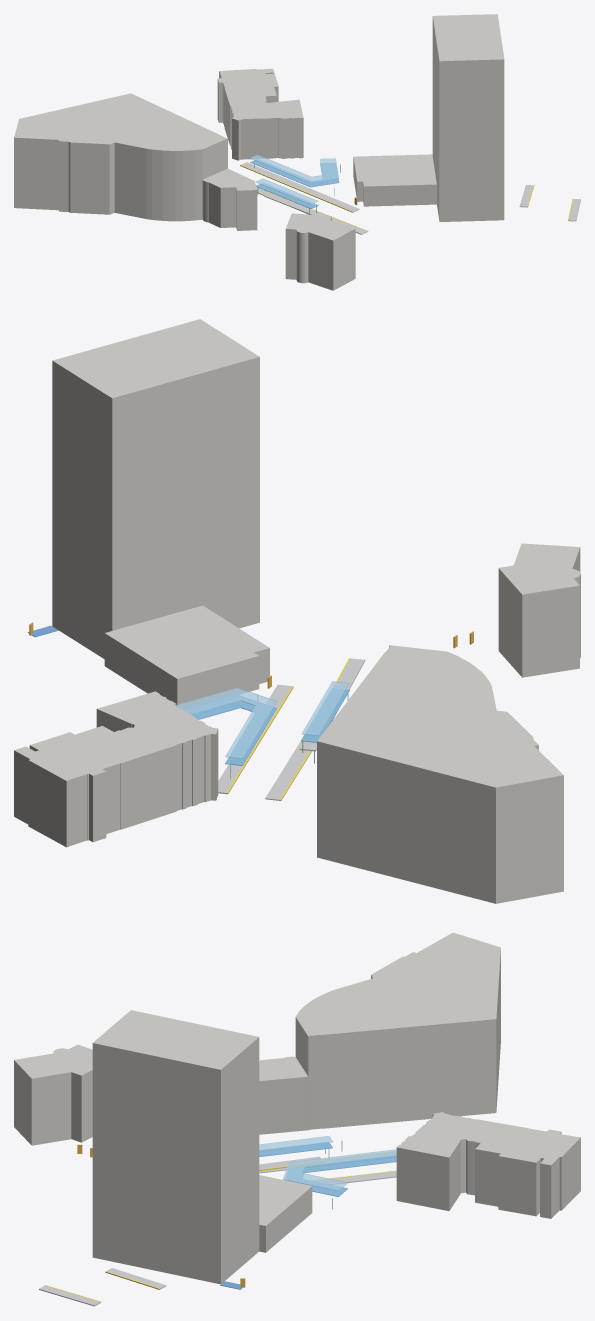
File: 8571393-bern-eigerplatz.glb
The picture shows the model from 3 angles, top to bottom: view 1: azimuth 30°, elevation 25°; view 2: azimuth 150°, elevation 25°; view 3: azimuth 270°, elevation 25°; orthographic projection. The views are drawn at different scales.
Visible parts, largest first — view 1: building_part@x, platform_body@0, roof@0, shelter@0, boarding_edge@0; view 2: building_part@x, roof@0, shelter@0, platform_body@0; view 3: building_part@x, roof@0, platform_body@0, shelter@0, boarding_edge@0.
Part boxes in pixels (<box>): building_part@x: <box>14,14,504,290</box>; platform_body@0: <box>241,162,580,234</box>; roof@0: <box>250,154,339,204</box>; shelter@0: <box>250,159,340,214</box>; boarding_edge@0: <box>240,165,573,231</box>; building_part@x: <box>14,319,580,903</box>; roof@0: <box>176,681,349,758</box>; shelter@0: <box>184,688,349,778</box>; platform_body@0: <box>218,658,365,800</box>; building_part@x: <box>14,932,580,1284</box>; roof@0: <box>259,1136,396,1191</box>; platform_body@0: <box>39,1152,396,1306</box>; shelter@0: <box>259,1141,396,1209</box>; boarding_edge@0: <box>45,1151,396,1302</box>.
Size of the model in its own units: 158 by 56.65 by 134.
